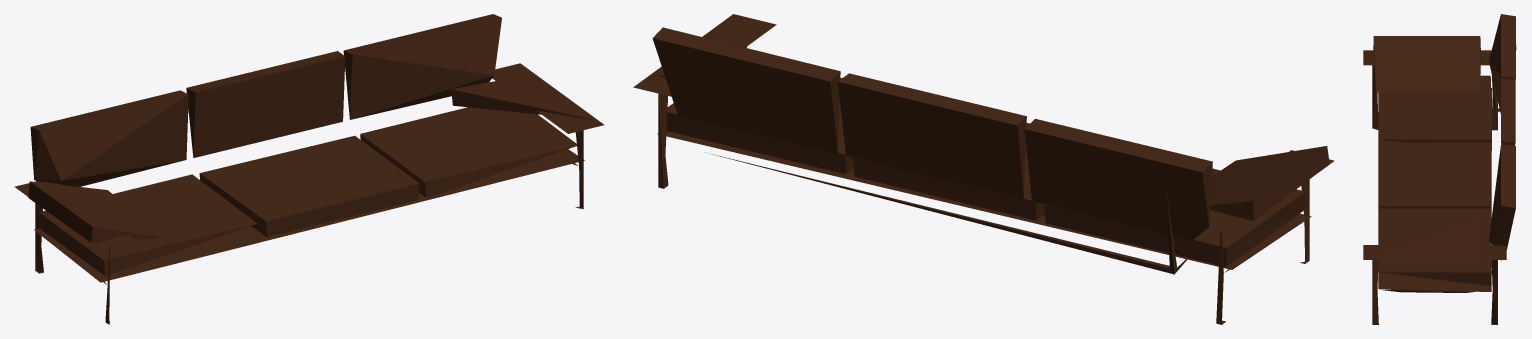
The model's file is sofa-luxury.lod2.glb.
3 views of the same model, side by side, from view 1: azimuth 30°, elevation 25°; view 2: azimuth 150°, elevation 25°; view 3: azimuth 270°, elevation 25° (orthographic). The views are drawn at different scales.
Visible parts, largest first — view 1: Object_2; view 2: Object_2; view 3: Object_2.
Boxes of the visible parts, bbox=[...] form: Object_2: bbox=[14, 14, 603, 324]; Object_2: bbox=[633, 14, 1334, 324]; Object_2: bbox=[1363, 14, 1517, 324].
Size of the model in its own units: 2.58 by 0.6667 by 0.7978.
